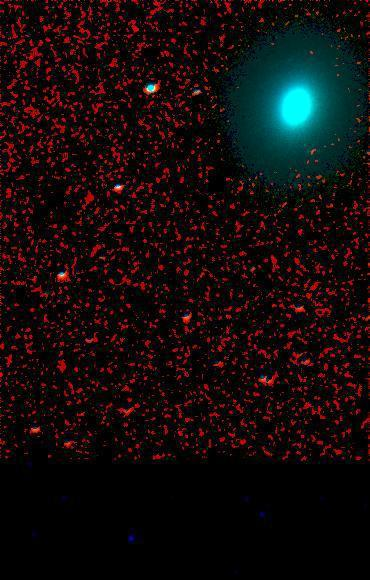star: (297, 37, 327, 67)
